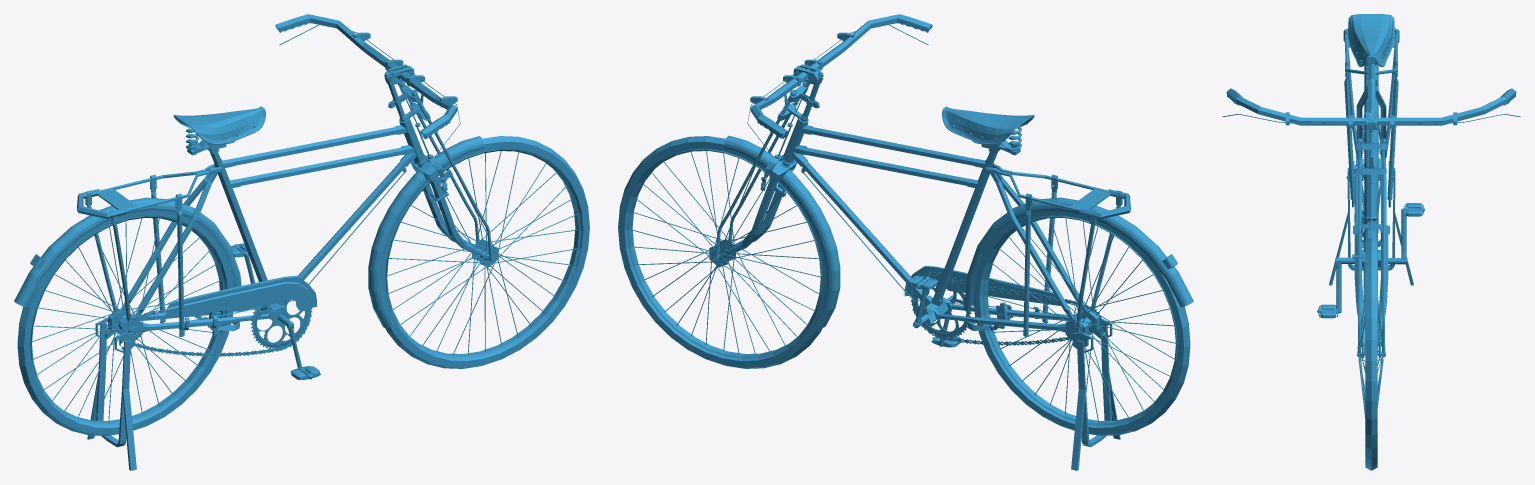
The picture shows the model from 3 angles, left to right: view 1: azimuth 30°, elevation 25°; view 2: azimuth 150°, elevation 25°; view 3: azimuth 270°, elevation 25°; orthographic projection. The views are drawn at different scales.
Visible parts, largest first — view 1: htZcyKS7Io; view 2: htZcyKS7Io; view 3: htZcyKS7Io.
Part boxes in pixels (bbox=[...]): htZcyKS7Io: bbox=[14, 14, 589, 470]; htZcyKS7Io: bbox=[618, 14, 1193, 470]; htZcyKS7Io: bbox=[1222, 14, 1520, 470].
Bounding box in the file's own units: 0.813 × 0.4423 × 0.3788.
